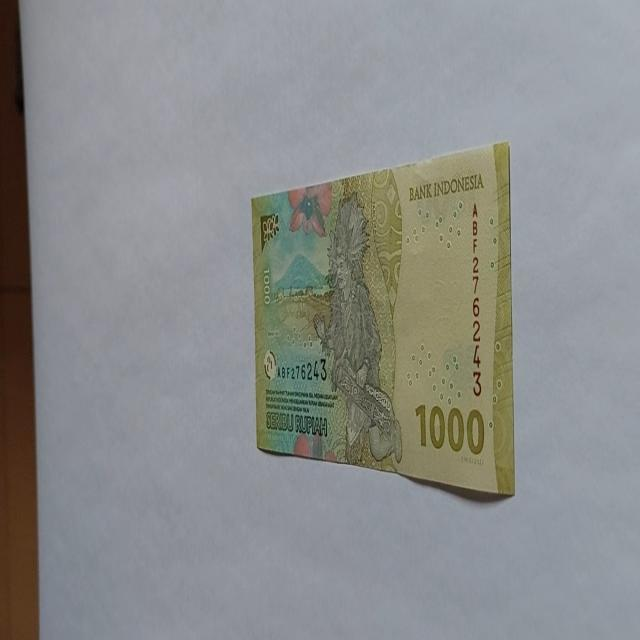seribu rupiah kertas: (250, 138, 516, 500)
